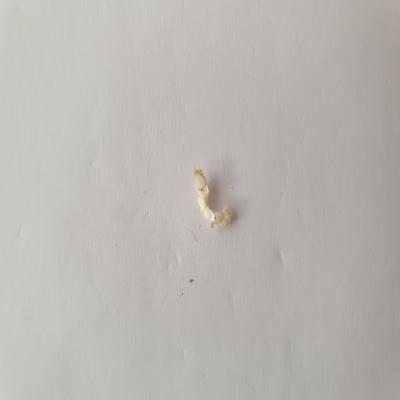plastic: (190, 161, 240, 234)
